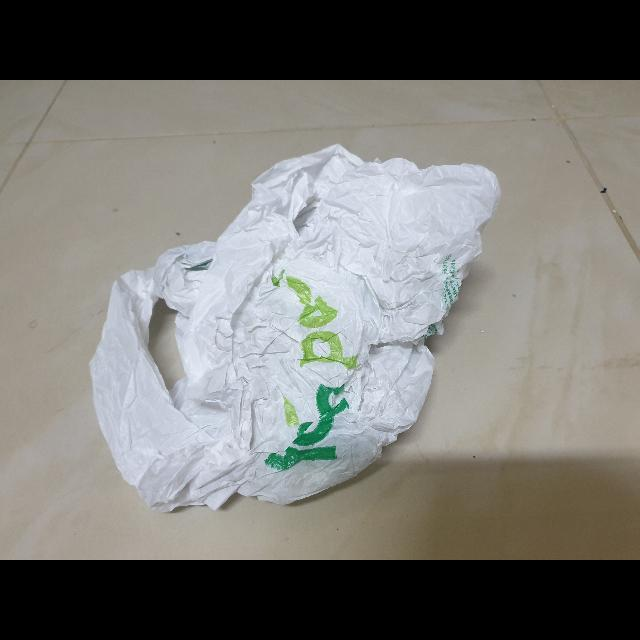plastic_bag: (80, 128, 510, 524)
